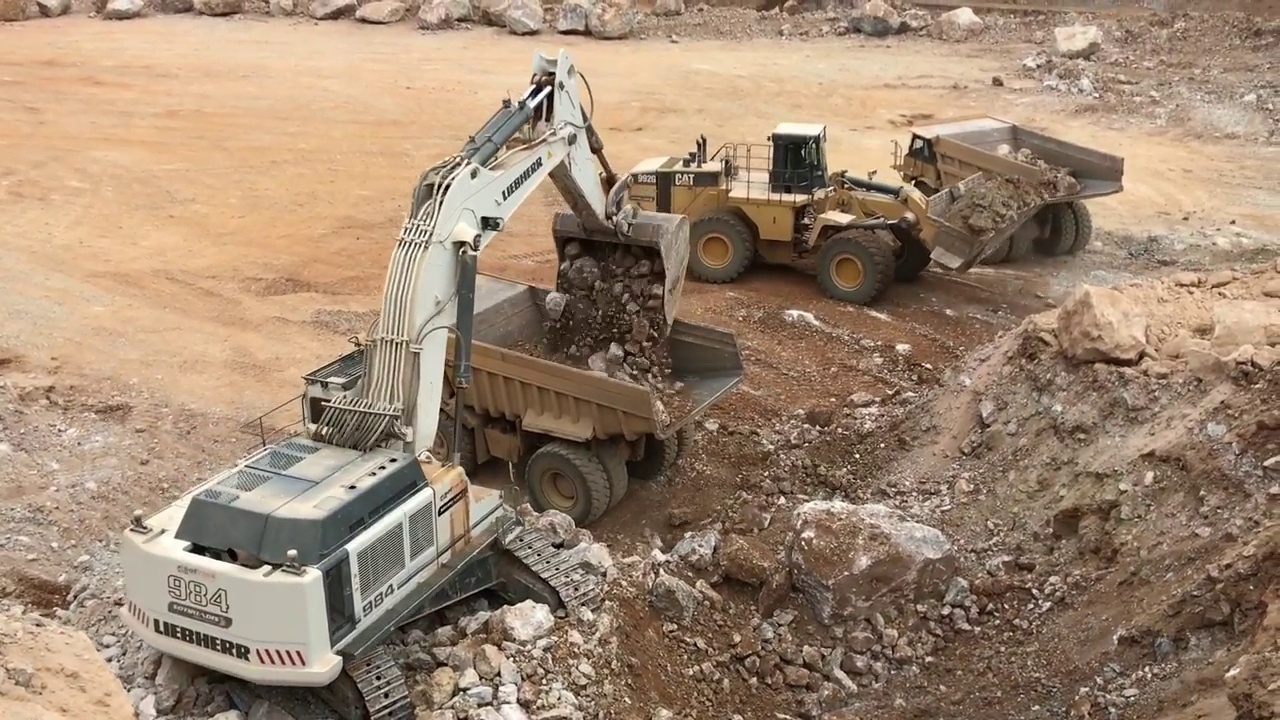dumper: (387, 266, 748, 531), (894, 116, 1126, 264)
excavator: (119, 45, 692, 710)
wheel loader: (628, 121, 1050, 303)
